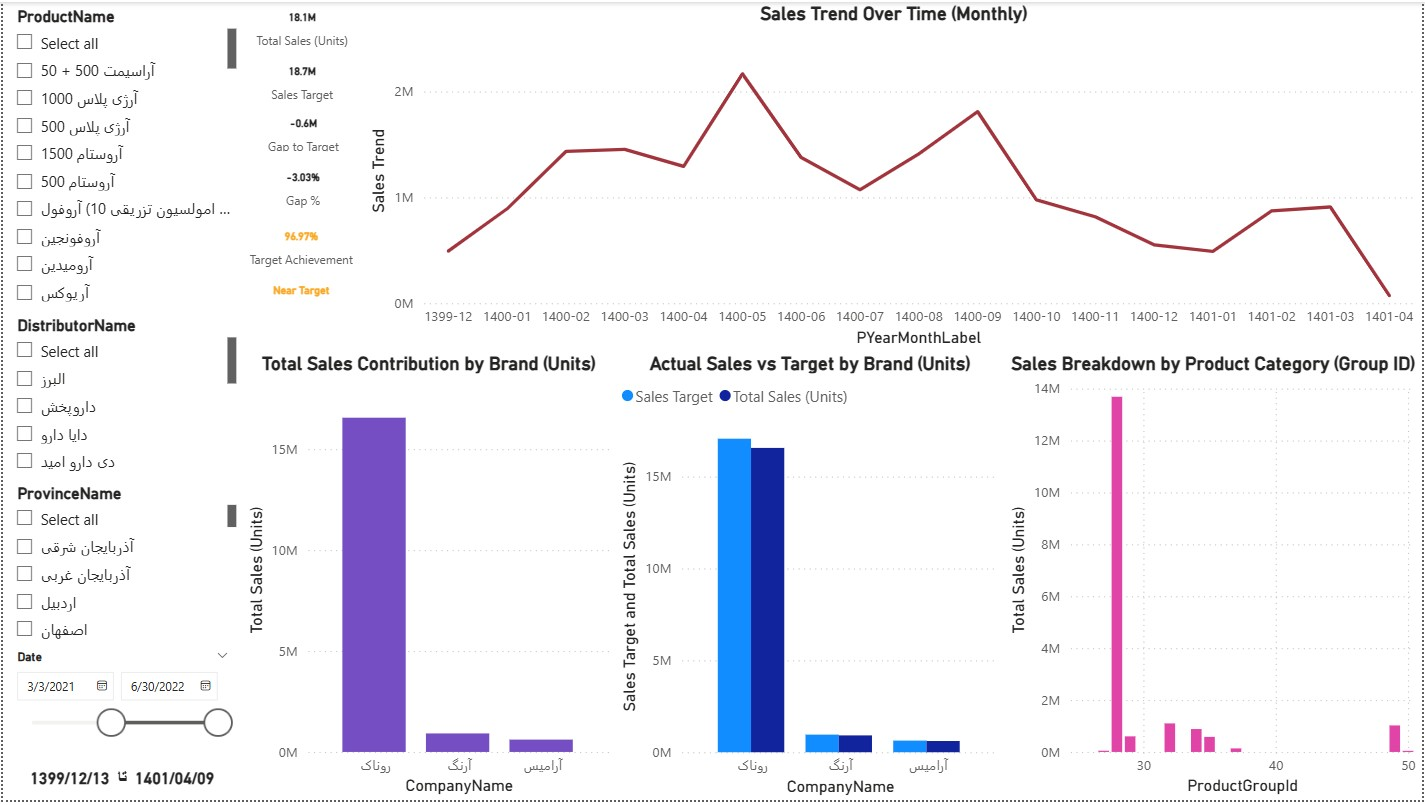

What the dashboard file says about the page in this screenshot:
{"tool":"powerbi","page":{"name":"Sales Overview","canvas":[1280,720],"ordinal":0},"visuals":[{"type":"card","fields":{"Values":["Measures – Page 1 (Sales Overview).Performance Status"]},"box":[214.7,247,109.9,31],"z":0},{"type":"slicer","fields":{"Values":["Products.ProductName"]},"box":[0,0,215.3,278.4],"z":1000},{"type":"slicer","fields":{"Values":["Distributors.DistributorName"]},"box":[0,278.4,215.3,151],"z":2000},{"type":"slicer","fields":{"Values":["Provinces.ProvinceName"]},"box":[0,429.4,215.3,149.9],"z":3000},{"type":"card","fields":{"Values":["Measures – Page 1 (Sales Overview).Total Sales"]},"box":[215.3,0,109.3,46.2],"z":4000},{"type":"card","fields":{"Values":["Measures – Page 1 (Sales Overview).Target Sales"]},"box":[215.3,46.2,109.3,50.7],"z":5000},{"type":"card","fields":{"Values":["Measures – Page 1 (Sales Overview).Achievement %"]},"box":[214.7,194,109.9,53],"z":6000},{"type":"lineChart","title":"Sales Trend Over Time (Monthly)","fields":{"Y":["Measures – Page 1 (Sales Overview).Sales Trend"],"Category":["Calendar.PYearMonthLabel"]},"box":[325.7,0,954.7,315.6],"z":7000},{"type":"clusteredColumnChart","title":"Total Sales Contribution by Brand (Units)","fields":{"Category":["Companies.CompanyName"],"Y":["Measures – Page 1 (Sales Overview).Total Sales"]},"box":[215.3,315.6,337,404.6],"z":8000},{"type":"clusteredColumnChart","title":"Actual Sales vs Target by Brand (Units)","fields":{"Category":["Companies.CompanyName"],"Y":["Measures – Page 1 (Sales Overview).Target Sales","Measures – Page 1 (Sales Overview).Total Sales"]},"box":[552.3,315.6,350.5,404.6],"z":9000},{"type":"card","fields":{"Values":["Measures – Page 1 (Sales Overview).Sales Gap"]},"box":[216.4,96.9,109.3,42.8],"z":10000},{"type":"card","fields":{"Values":["Measures Project.Selected Range (P)"]},"box":[0,681.9,215.3,38.3],"z":11000},{"type":"slicer","fields":{"Values":["Calendar.Date"]},"box":[0,579.3,215.3,102.6],"z":12000},{"type":"clusteredColumnChart","title":"Sales Breakdown by Product Category (Group ID)","fields":{"Y":["Measures – Page 1 (Sales Overview).Total Sales"],"Category":["Products.ProductGroupId"]},"box":[902.8,315.6,376.5,404.6],"z":13000},{"type":"card","fields":{"Values":["Measures Project.Gap %"]},"box":[216,139.7,108.6,54.3],"z":14000}]}

Visuals, with their boxes in screenshot pixels (x1, y1, x2, y2), scaled from the page's 1280x720 canvas onto the 1425x805 screenshot:
card - Measures – Page 1 (Sales Overview).Performance Status: [x1=239, y1=276, x2=361, y2=311]
slicer - Products.ProductName: [x1=0, y1=0, x2=240, y2=311]
slicer - Distributors.DistributorName: [x1=0, y1=311, x2=240, y2=480]
slicer - Provinces.ProvinceName: [x1=0, y1=480, x2=240, y2=648]
card - Measures – Page 1 (Sales Overview).Total Sales: [x1=240, y1=0, x2=361, y2=52]
card - Measures – Page 1 (Sales Overview).Target Sales: [x1=240, y1=52, x2=361, y2=108]
card - Measures – Page 1 (Sales Overview).Achievement %: [x1=239, y1=217, x2=361, y2=276]
"Sales Trend Over Time (Monthly)" lineChart: [x1=363, y1=0, x2=1424, y2=353]
"Total Sales Contribution by Brand (Units)" clusteredColumnChart: [x1=240, y1=353, x2=615, y2=804]
"Actual Sales vs Target by Brand (Units)" clusteredColumnChart: [x1=615, y1=353, x2=1005, y2=804]
card - Measures – Page 1 (Sales Overview).Sales Gap: [x1=241, y1=108, x2=363, y2=156]
card - Measures Project.Selected Range (P): [x1=0, y1=762, x2=240, y2=804]
slicer - Calendar.Date: [x1=0, y1=648, x2=240, y2=762]
"Sales Breakdown by Product Category (Group ID)" clusteredColumnChart: [x1=1005, y1=353, x2=1424, y2=804]
card - Measures Project.Gap %: [x1=240, y1=156, x2=361, y2=217]
